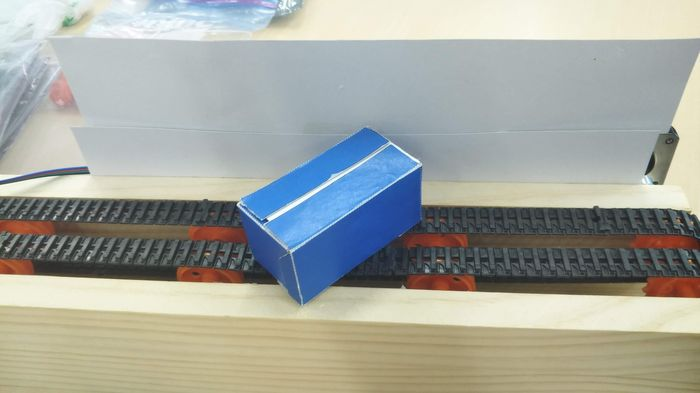box3: (234, 124, 424, 307)
